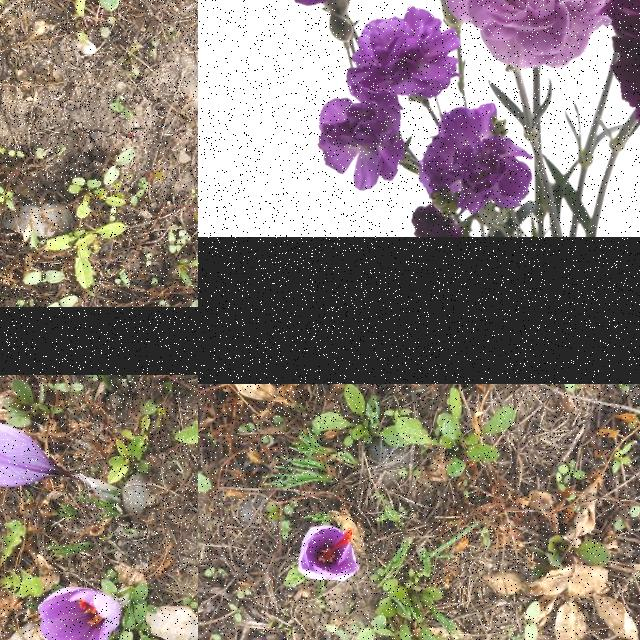flower: (38, 586, 122, 640), (0, 418, 59, 487), (297, 525, 361, 583)
